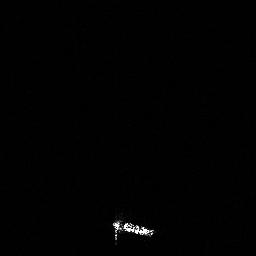ship: (108, 217, 156, 243)
